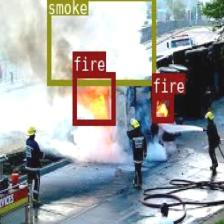fire: (72, 71, 114, 124), (151, 94, 173, 121)
smoke: (46, 0, 155, 84)
